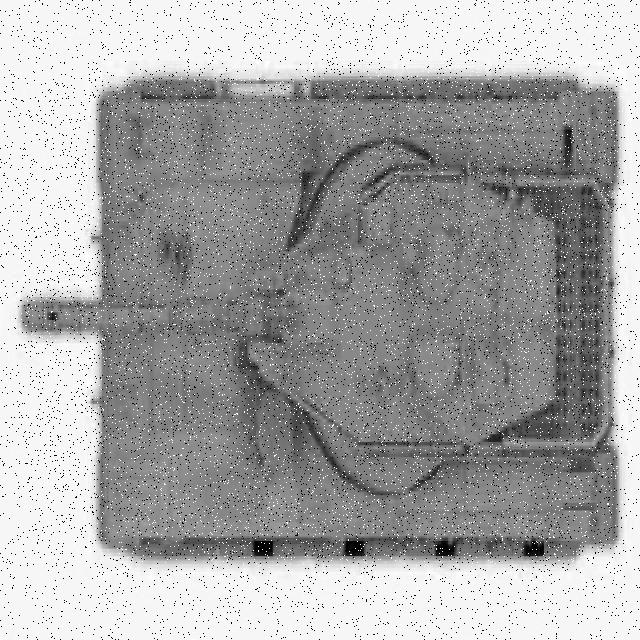MIL_MBT: (23, 78, 619, 560)
